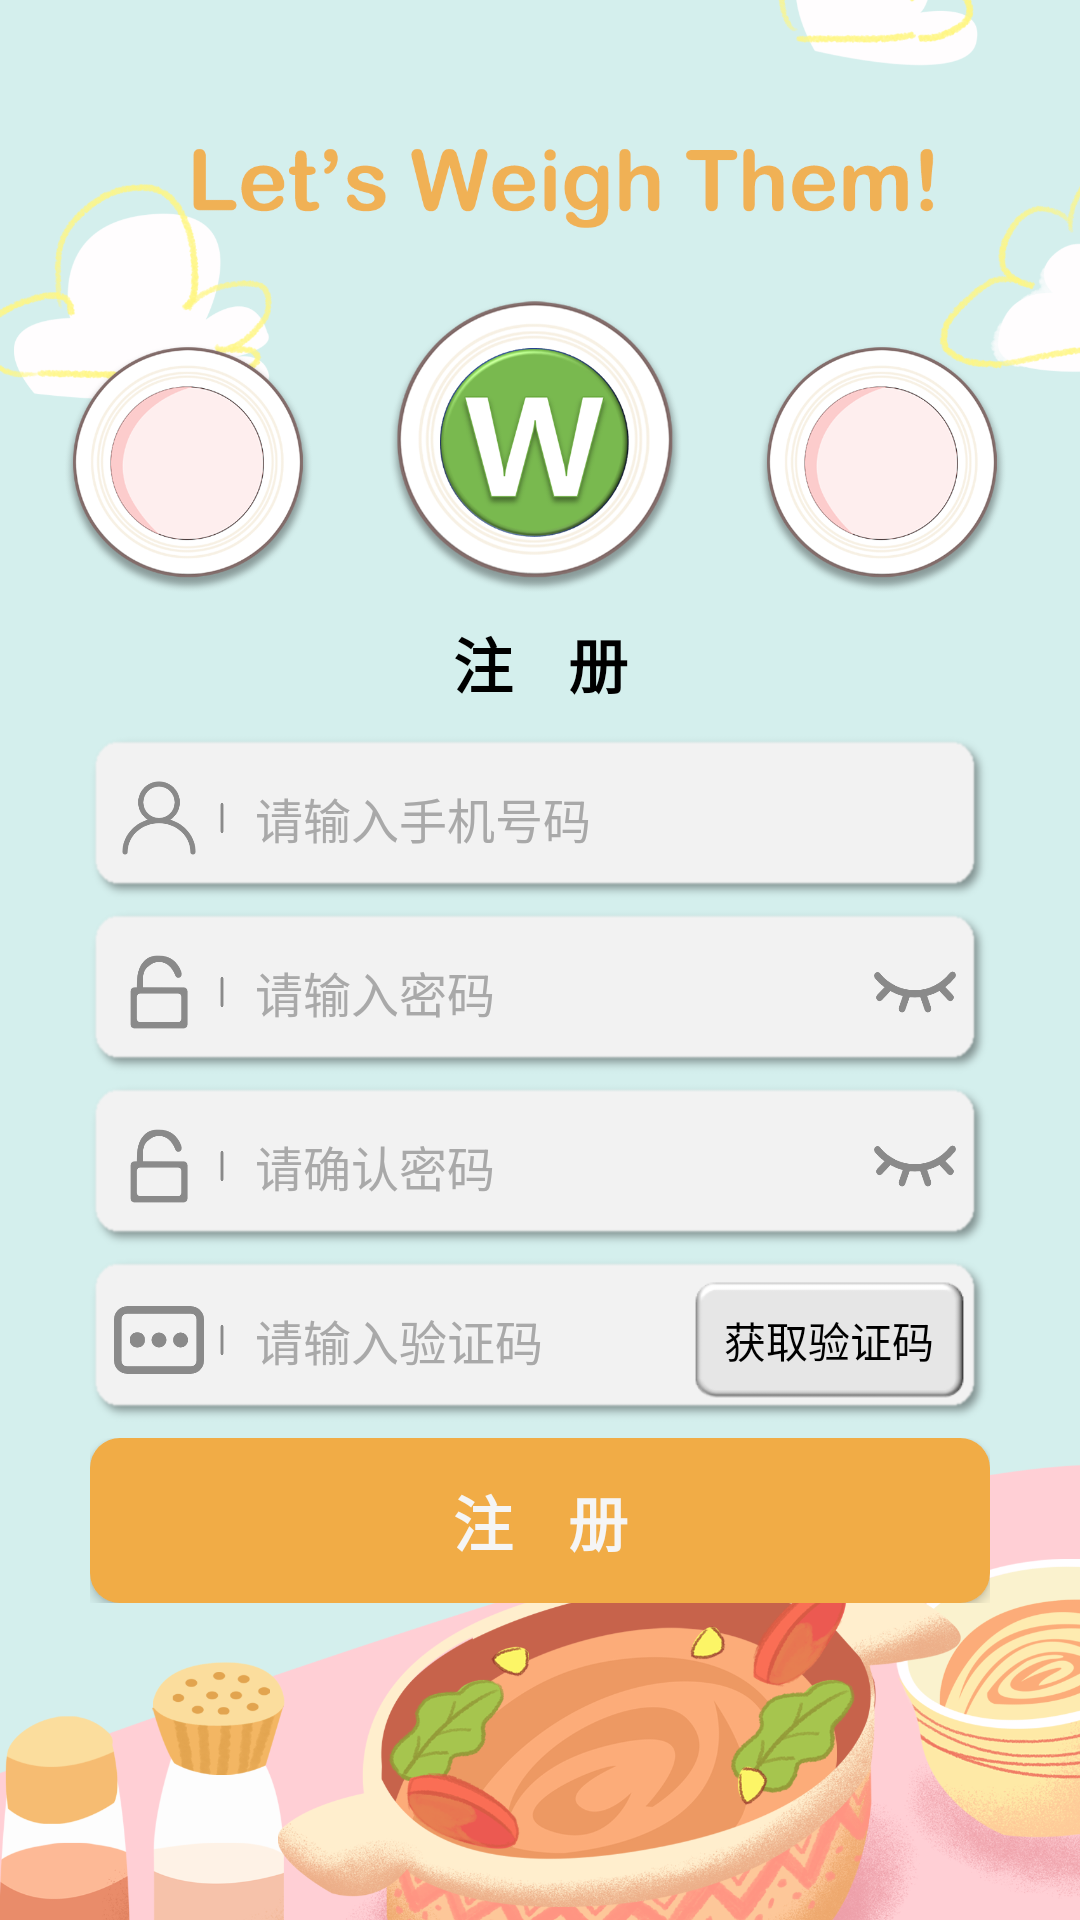

Named icons in this screenshot (1080w x 1920h) and their bounding boxes, [x1,y1,x2,y2]:
no eye: [874,971,956,1013], [874,1145,956,1187]
passwd: [130,955,188,1029], [130,1129,188,1203]
user: [122,781,196,855]
verifycode: [114,1306,204,1374]
